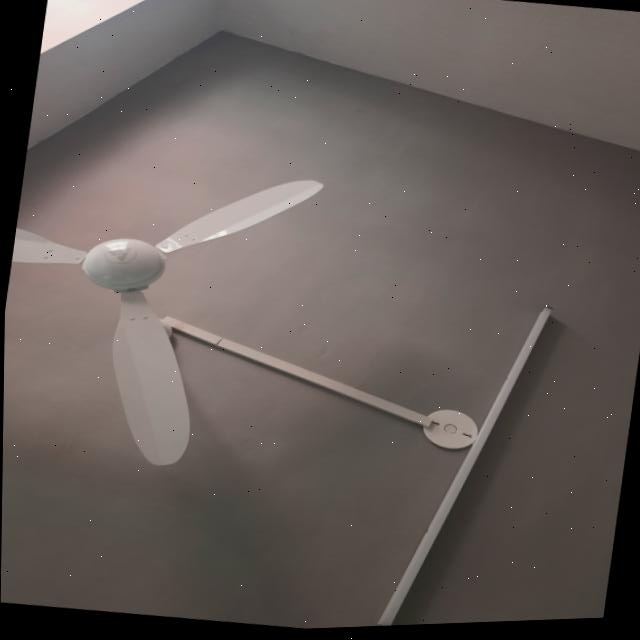fluorescent tube: (369, 286, 559, 629)
